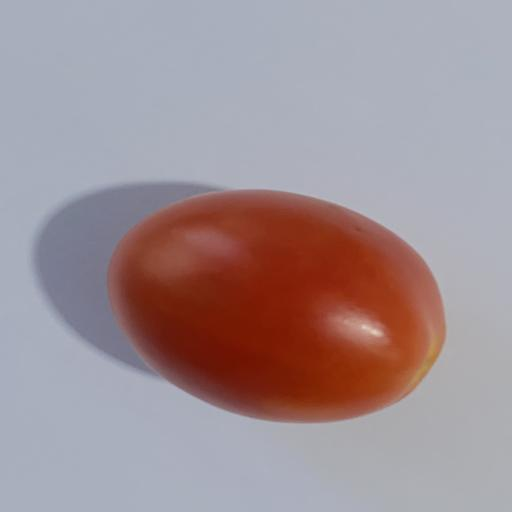ripe: (108, 190, 444, 422)
